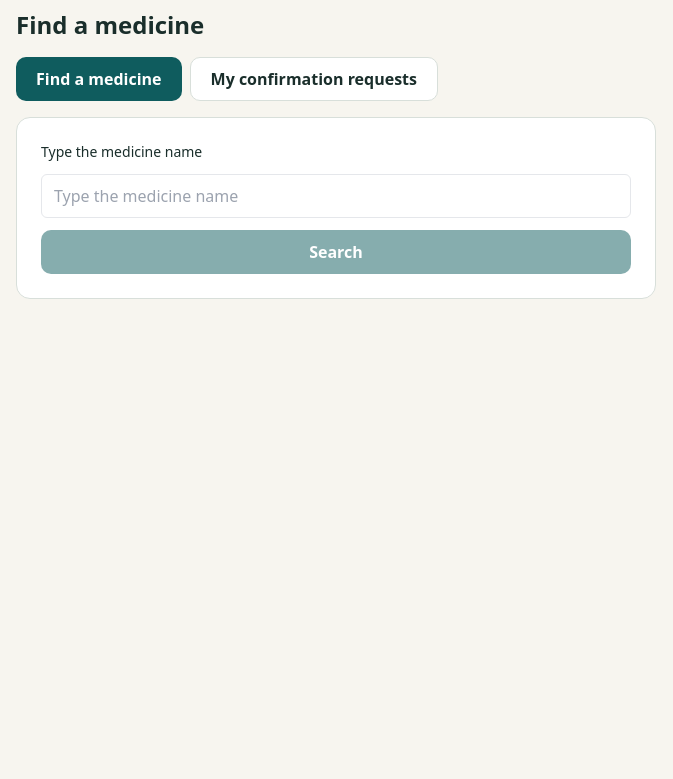
Test case: pharmacy finder: availability results › queues the confirmation request offline and never claims sent
In the field labelled "Type the medicine name": (336, 196) [41, 174, 631, 218], type "paracetamol"
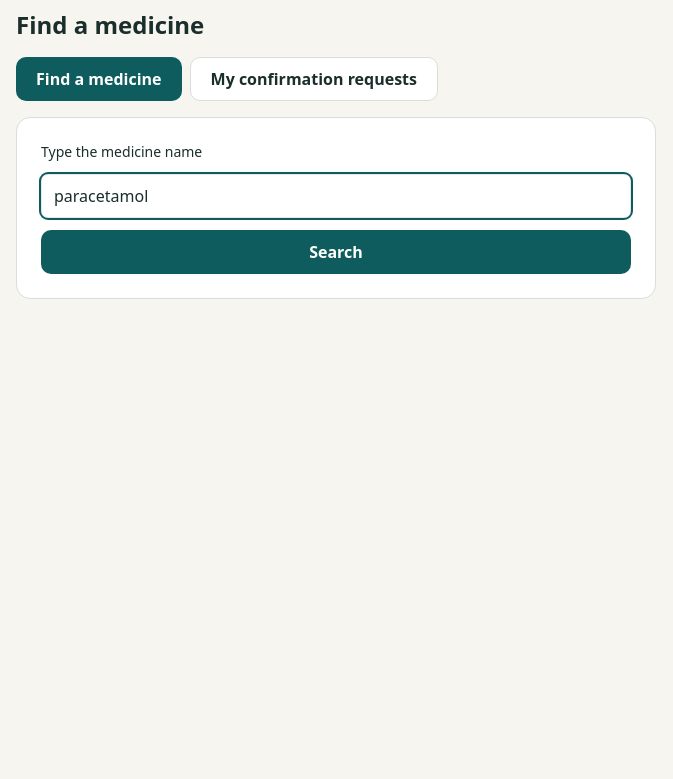
Click the button "Search": click(336, 252) [41, 230, 631, 274]
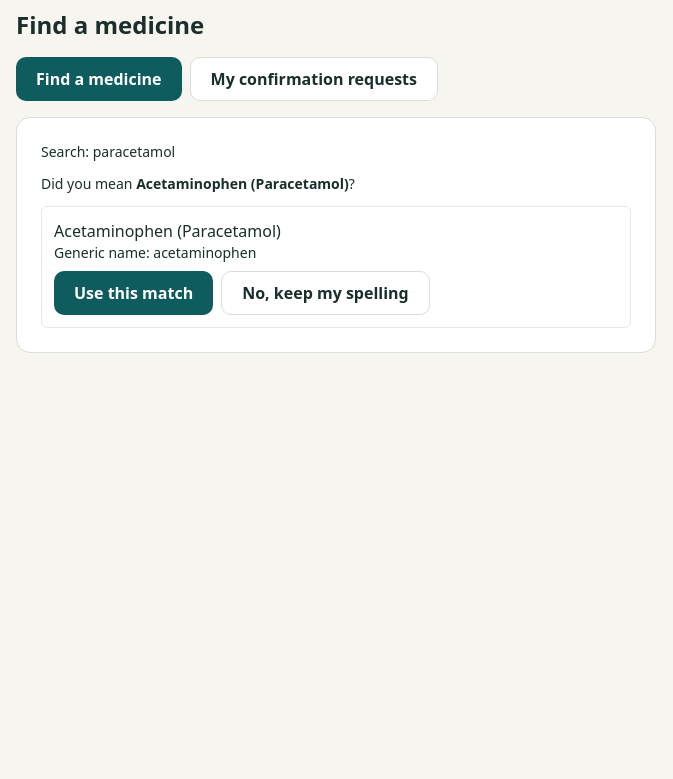
Result: the button "Use this match" is shown
Click the button "Use this match": click(134, 293) [54, 271, 213, 315]
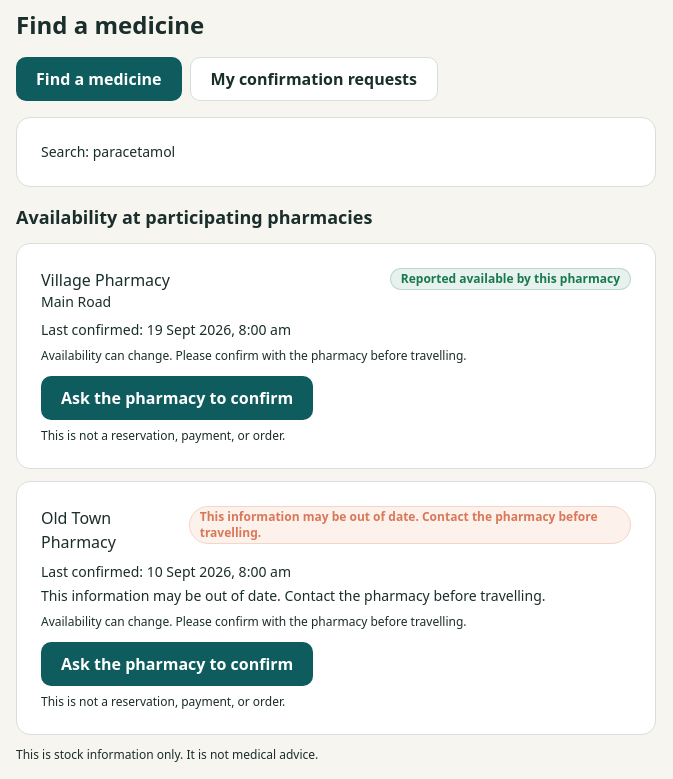
Result: the text "Village Pharmacy" is shown at [41, 268, 170, 292]
Click the button "Ask the pharmacy to confirm" below "19 Sept 2026, 8:00 am": click(177, 398) [41, 376, 313, 420]
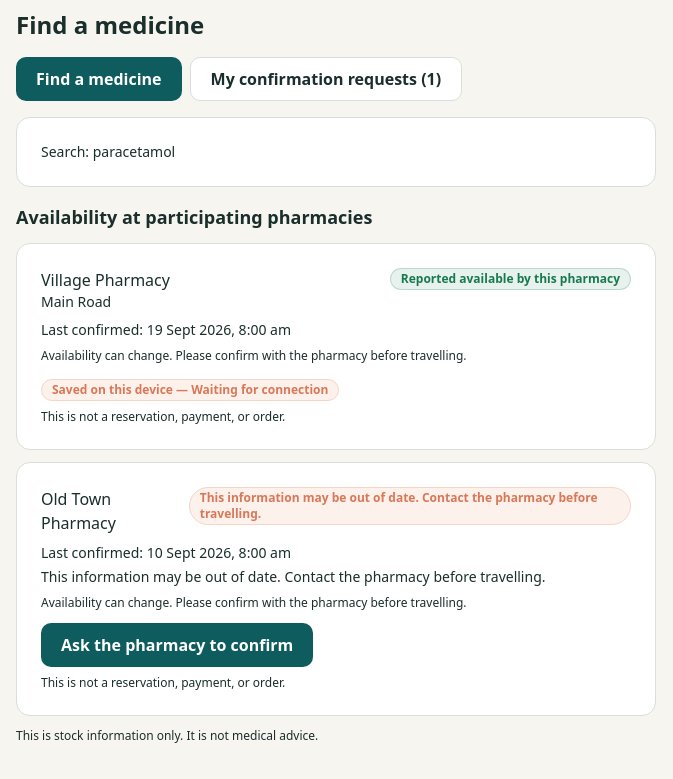
Result: the text "Saved on this device — Waiting for connection" is shown at [41, 379, 339, 401]
